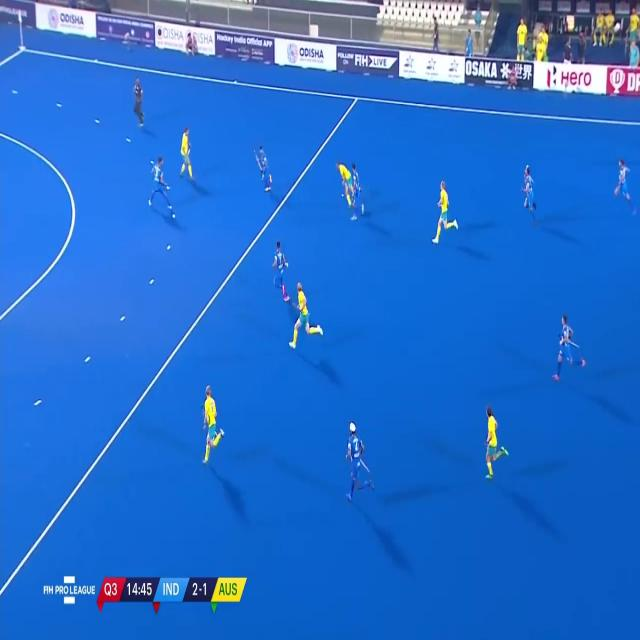ball: (340, 192, 346, 199)
